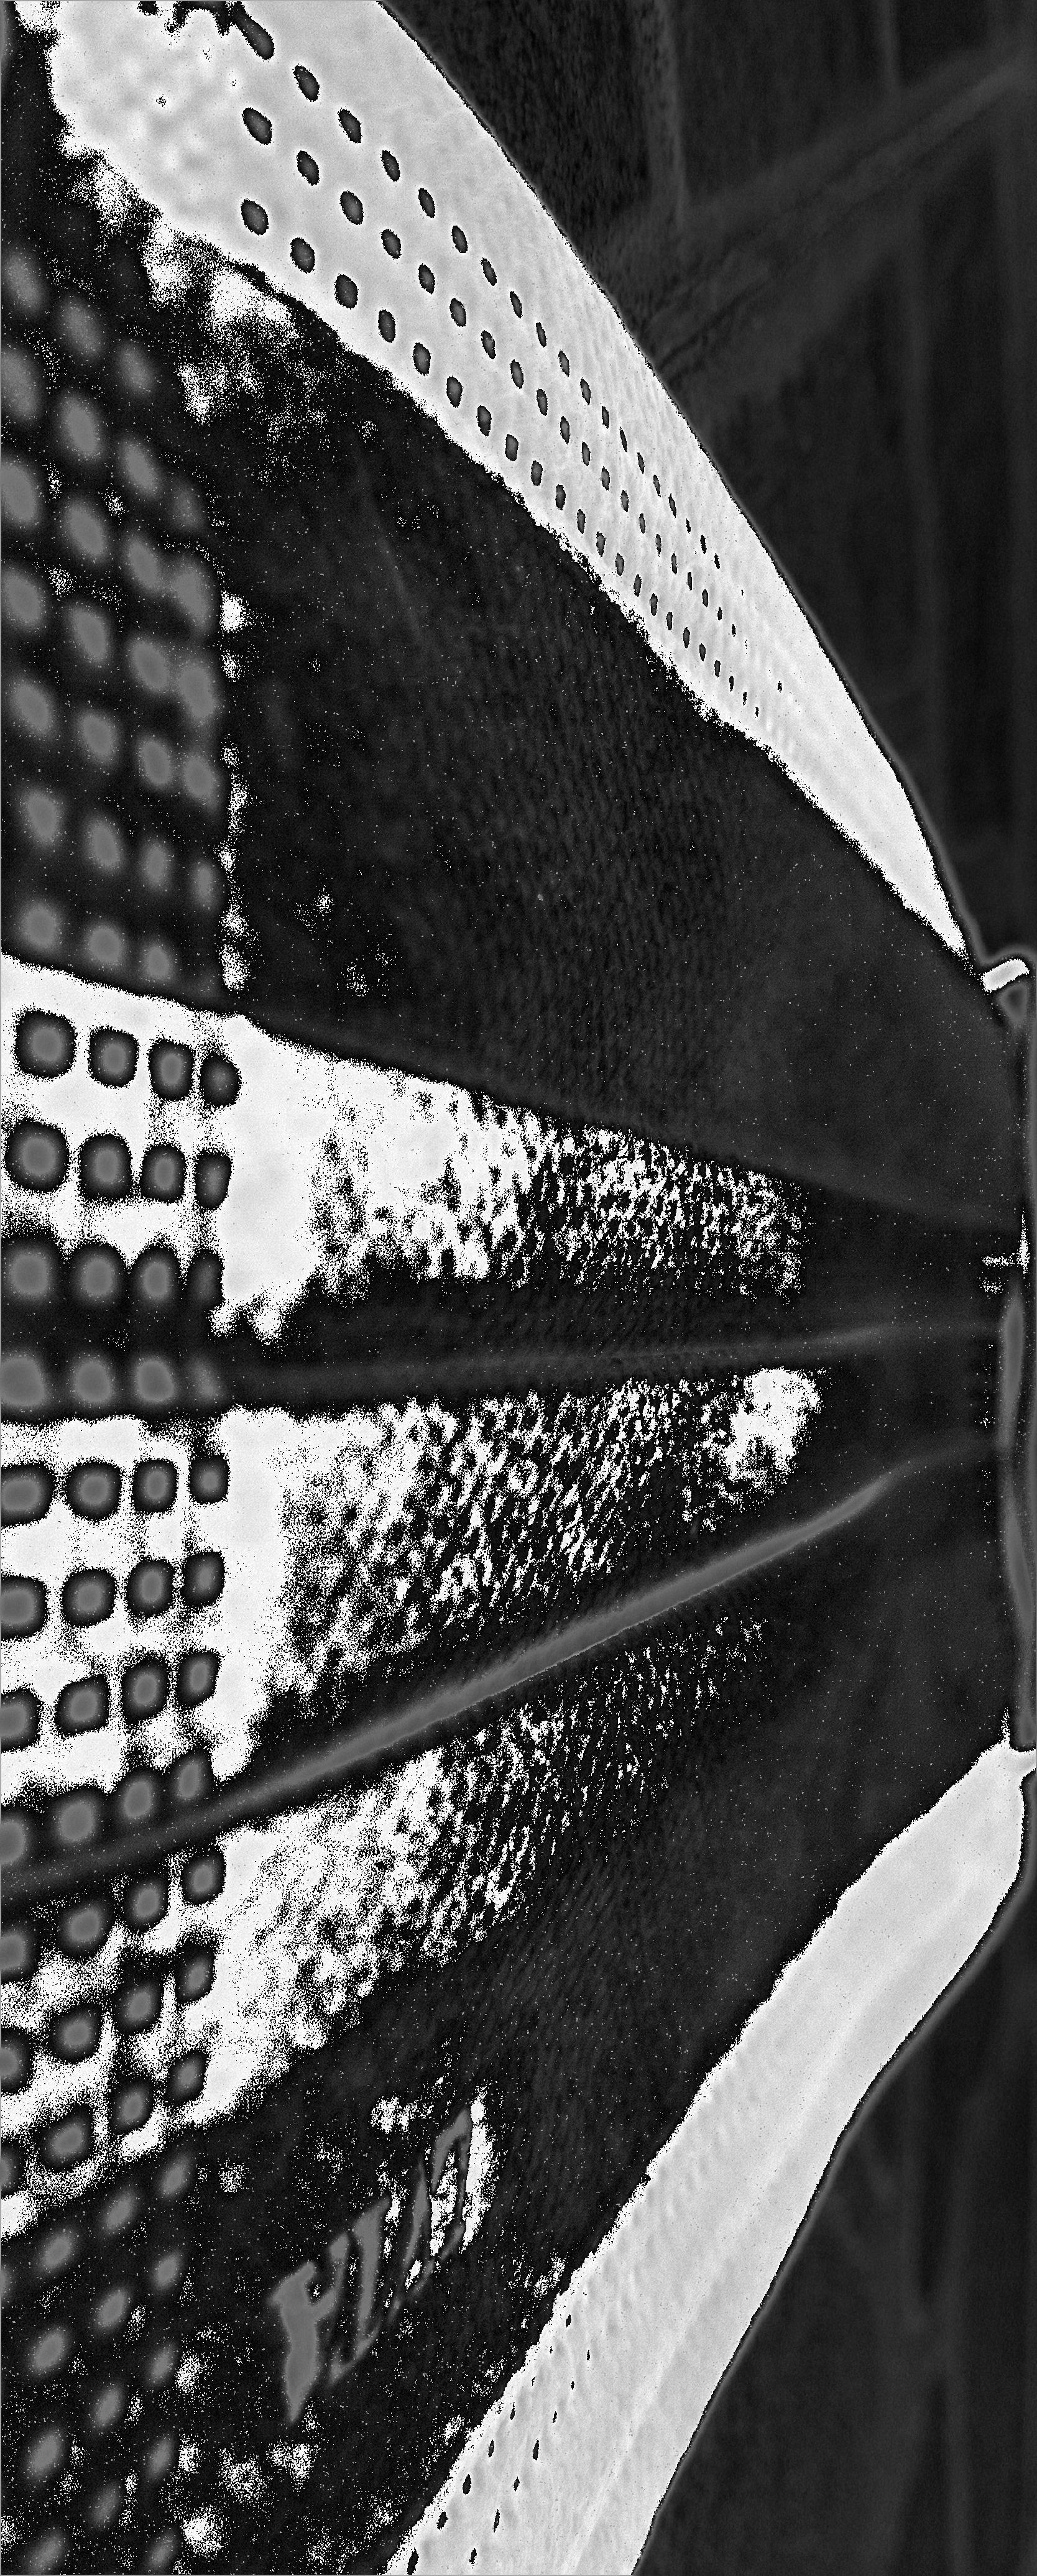High GSM: (266, 421, 628, 2461), (516, 1009, 988, 1802)
